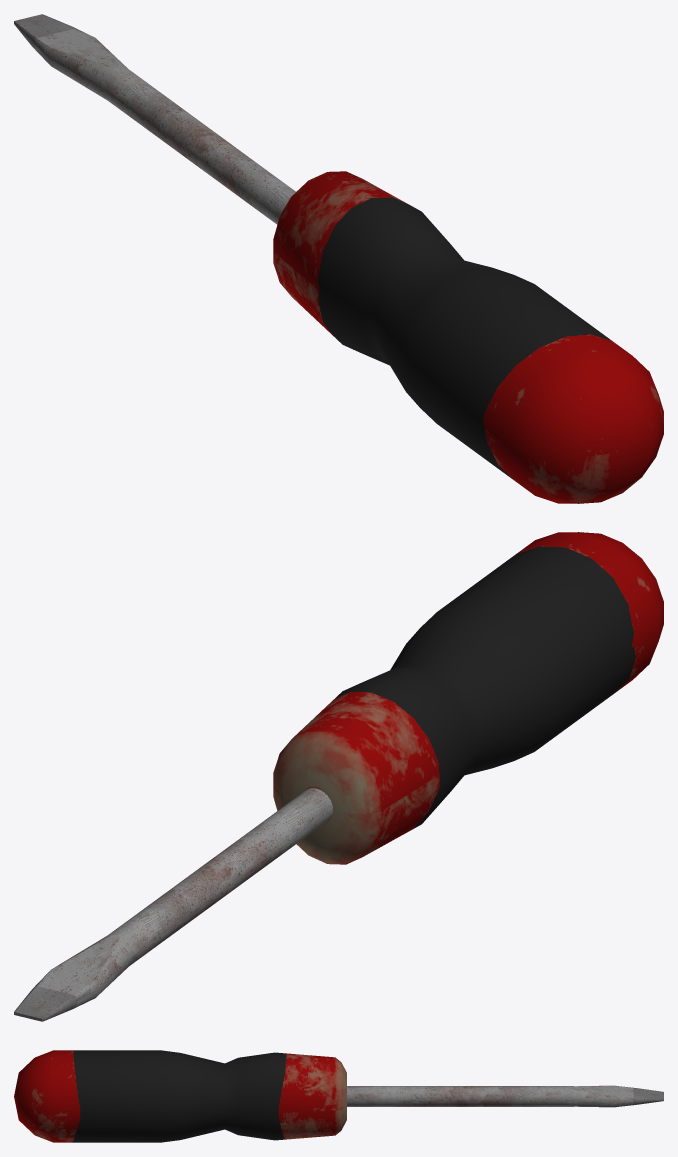
The model's file is Screwdriver01_3.FBX.
The picture shows the model from 3 angles, top to bottom: view 1: azimuth 30°, elevation 25°; view 2: azimuth 150°, elevation 25°; view 3: azimuth 270°, elevation 25°; orthographic projection. The views are drawn at different scales.
Visible parts, largest first — view 1: Screwdriver01_3_LOD0; view 2: Screwdriver01_3_LOD0; view 3: Screwdriver01_3_LOD0.
Part boxes in pixels (<box>): Screwdriver01_3_LOD0: <box>14,14,663,503</box>; Screwdriver01_3_LOD0: <box>14,532,663,1021</box>; Screwdriver01_3_LOD0: <box>14,1050,663,1142</box>.
Size of what is drawn, in the model's own units: 3.92 by 3.8 by 26.87.
